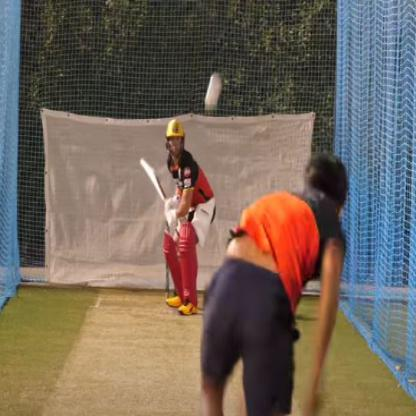ball: (198, 68, 229, 113)
